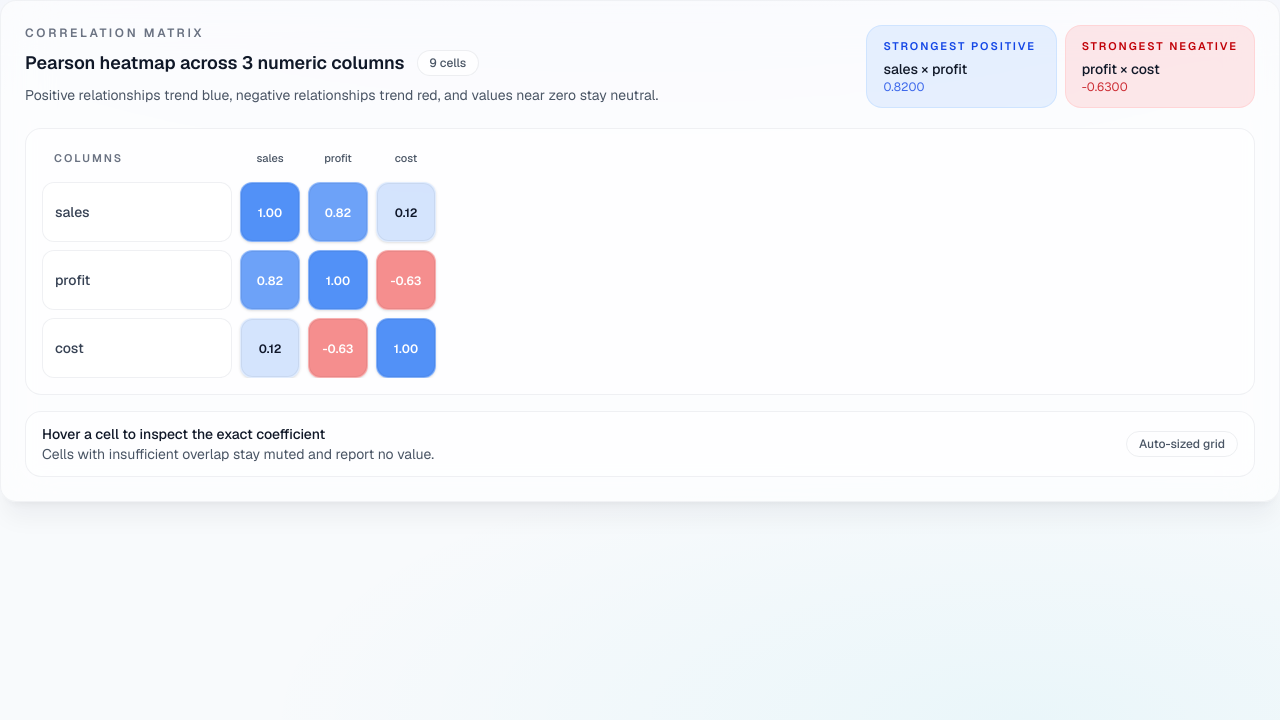
Test case: CorrelationMatrix › renders the matrix and updates the hover detail
This screenshot has width=1280, height=720.
Expected: the text "sales × profit" is shown, left=883, top=60, right=967, bottom=78
Expected: the text "profit × cost" is shown, left=1082, top=60, right=1160, bottom=78
Hover over the 1st button titled "sales × profit: 0.8200" at [338, 212], box left=308, top=182, right=368, bottom=242
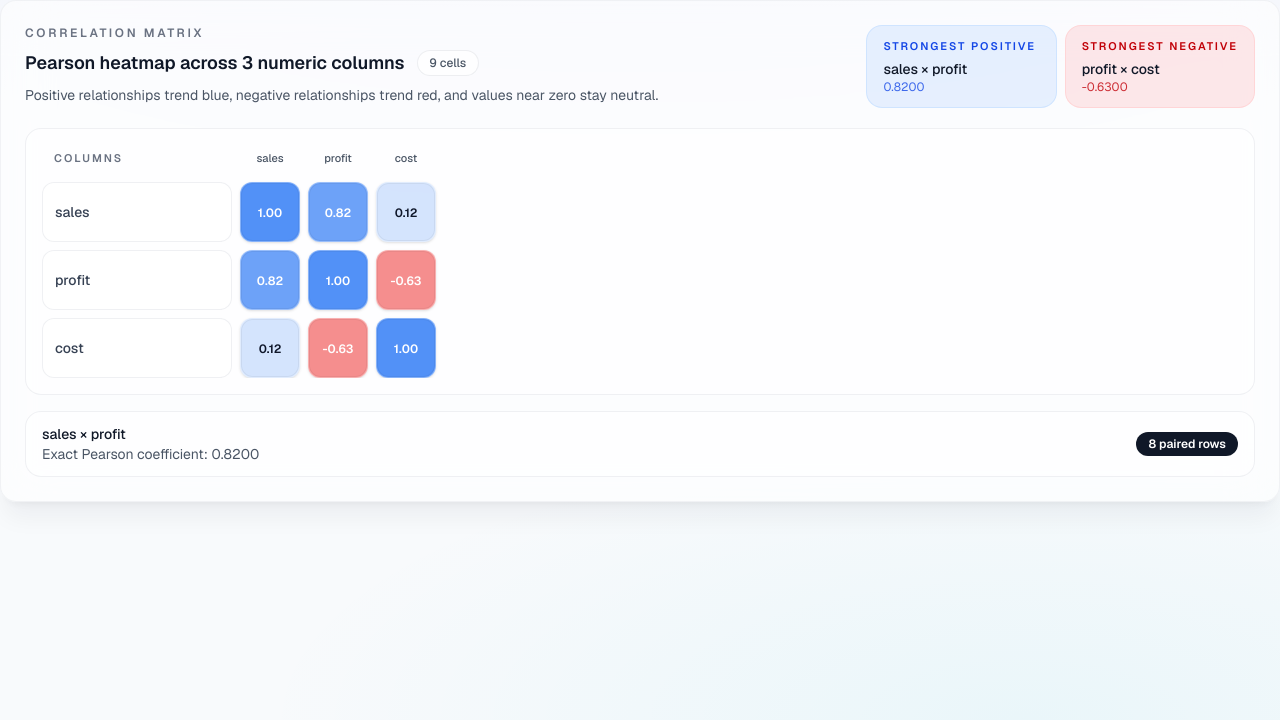
Expected: the text "Exact Pearson coefficient: 0.8200" is shown, left=42, top=444, right=259, bottom=464
Expected: the text "8 paired rows" is shown, left=1136, top=432, right=1238, bottom=456
